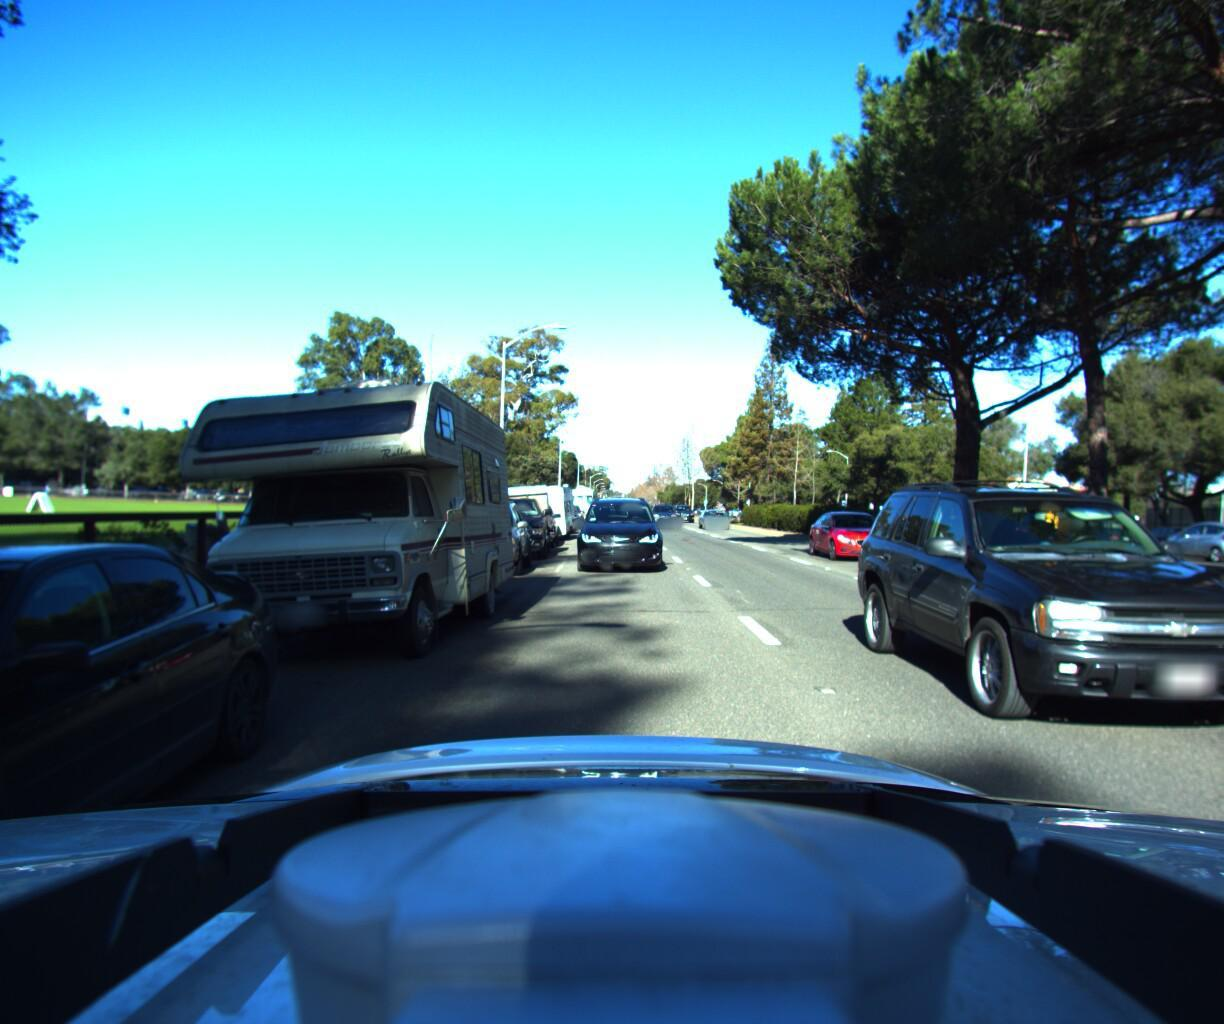car: (886, 428, 1224, 857), (0, 531, 293, 1024), (430, 485, 535, 587), (455, 477, 556, 567), (576, 492, 664, 576), (806, 511, 922, 570), (1140, 516, 1224, 564), (500, 499, 565, 548), (648, 502, 680, 529), (1209, 514, 1224, 569), (698, 507, 736, 530), (672, 507, 698, 526)
other_vehicle: (135, 334, 519, 684), (516, 479, 576, 545), (562, 484, 594, 524)
